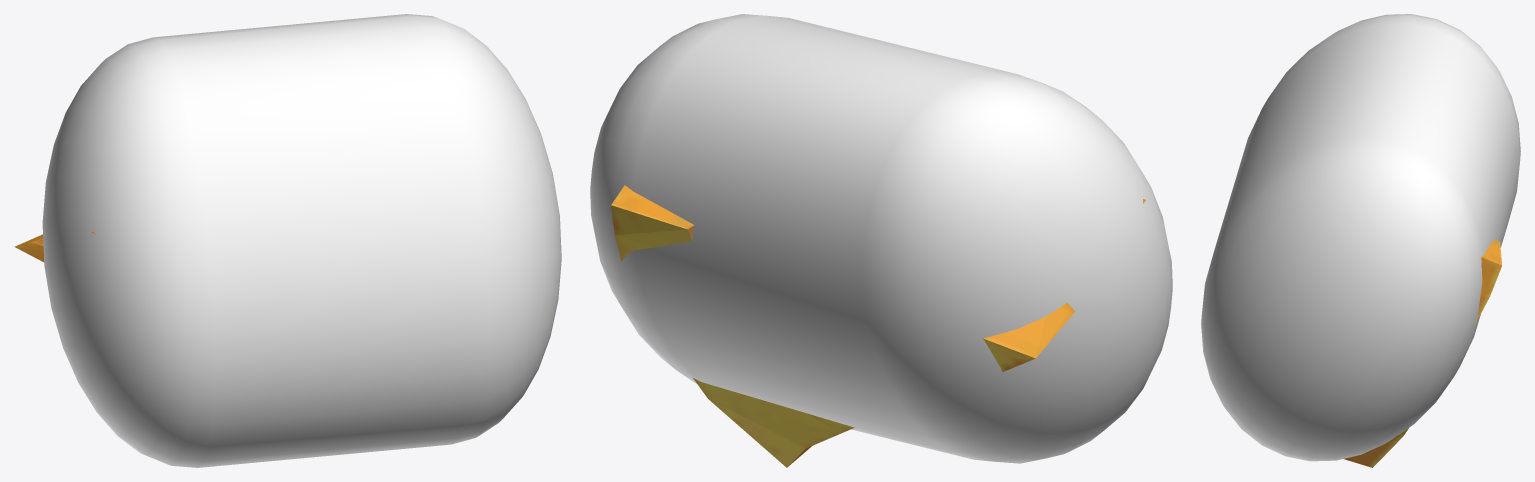
File: CheeseWedgeAnchor.fbx
The picture shows the model from 3 angles, left to right: view 1: azimuth 30°, elevation 25°; view 2: azimuth 150°, elevation 25°; view 3: azimuth 270°, elevation 25°; orthographic projection. The views are drawn at different scales.
Parts seen in each view (by area): view 1: CheeseSliceInteractionPoint; view 2: CheeseSliceInteractionPoint, Cheese, CheeseBite03; view 3: CheeseSliceInteractionPoint, Cheese.
Boxes of the visible parts, x1,y1,x2,y2 form: CheeseSliceInteractionPoint: [42, 14, 561, 467]; CheeseSliceInteractionPoint: [590, 14, 1172, 463]; Cheese: [611, 185, 1145, 467]; CheeseBite03: [611, 206, 841, 466]; CheeseSliceInteractionPoint: [1201, 14, 1520, 461]; Cheese: [1344, 238, 1502, 467].
Size of the model in its own units: 16.79 by 14.13 by 11.22.
